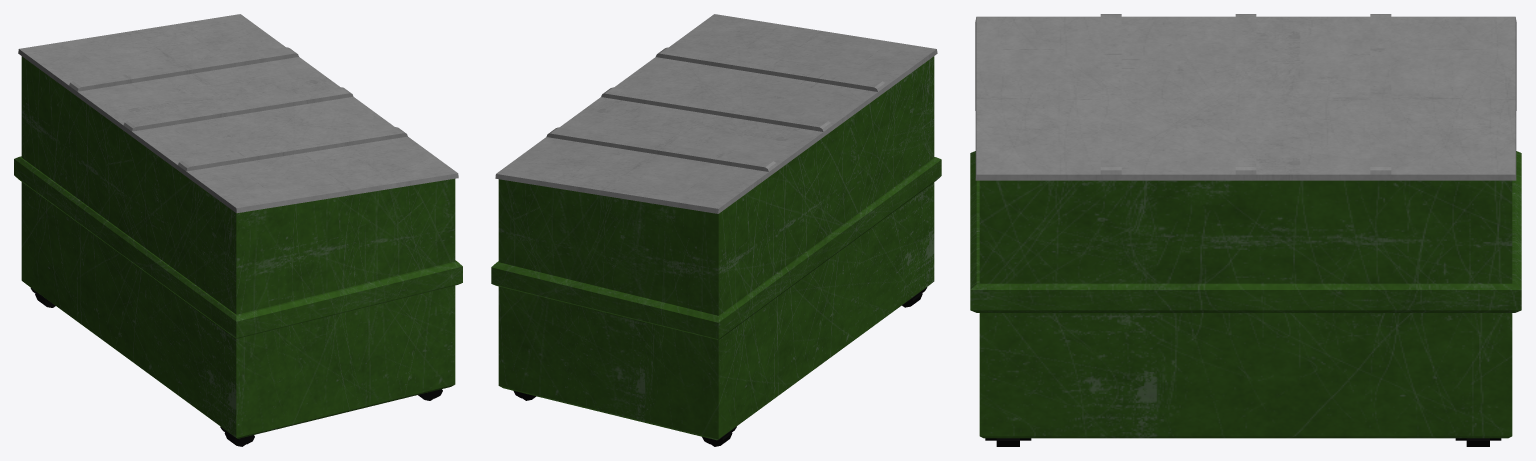
Rendered from dumpster.fbx.
3 renders of one model, left to right at view 1: azimuth 30°, elevation 25°; view 2: azimuth 150°, elevation 25°; view 3: azimuth 270°, elevation 25°, orthographic. The views are drawn at different scales.
Parts seen in each view (by area): view 1: BAKE; view 2: BAKE; view 3: BAKE.
Boxes of the visible parts, box(x1,y1,x2,y2) form: BAKE: box(14, 14, 462, 446); BAKE: box(491, 14, 941, 446); BAKE: box(970, 14, 1521, 446).
Bounding box in the file's own units: 124 × 132 × 211.
Materials: 1 (1 with a texture image).
